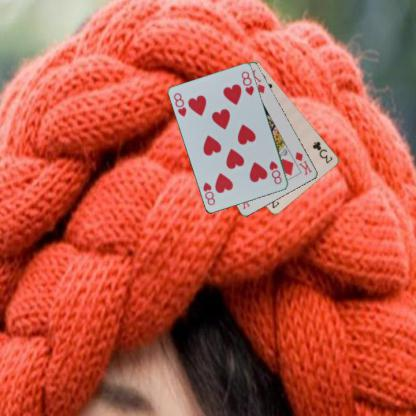3c: (310, 138, 334, 164)
8h: (171, 90, 188, 119), (267, 158, 283, 186)
Kd: (292, 150, 314, 176)
